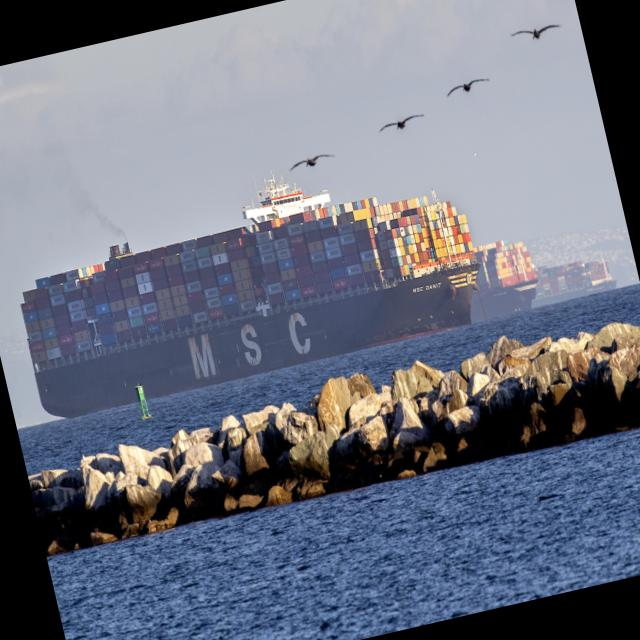boat: (0, 147, 504, 436)
